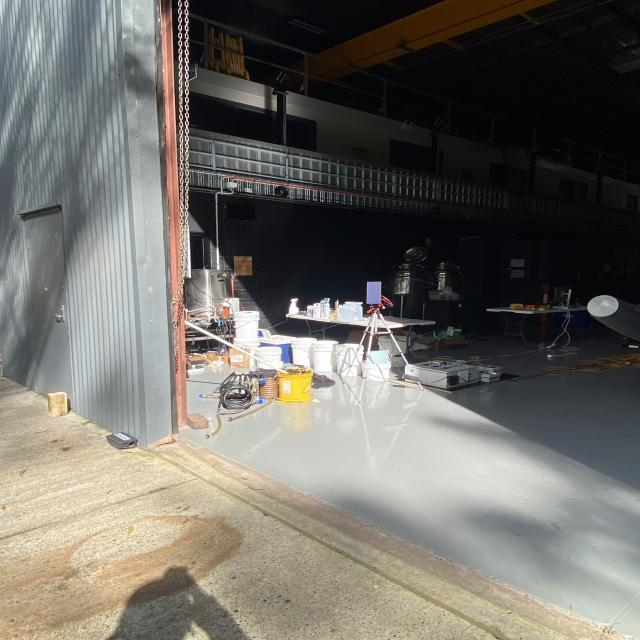matrix: (362, 277, 385, 308)
